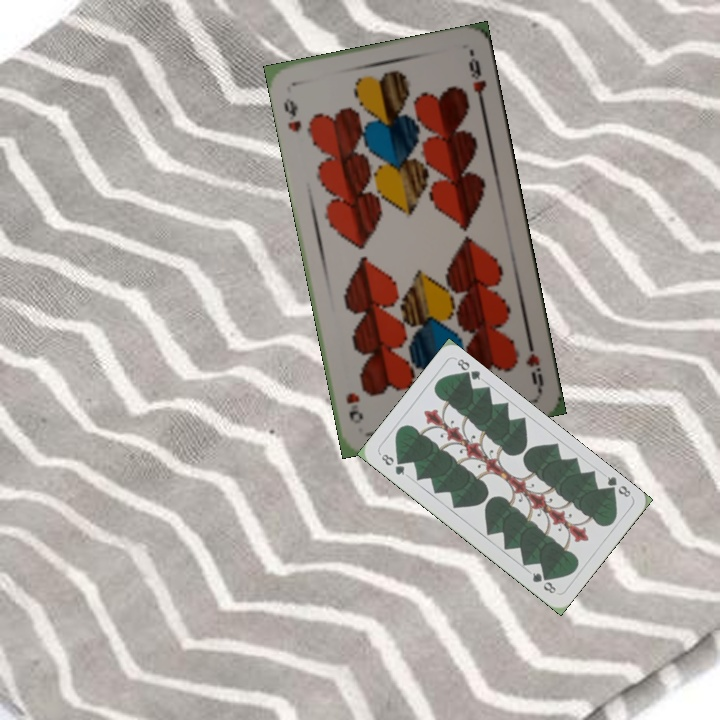G8: (601, 472, 633, 500), (377, 450, 407, 478)
H9: (522, 333, 547, 392), (279, 93, 304, 135)
